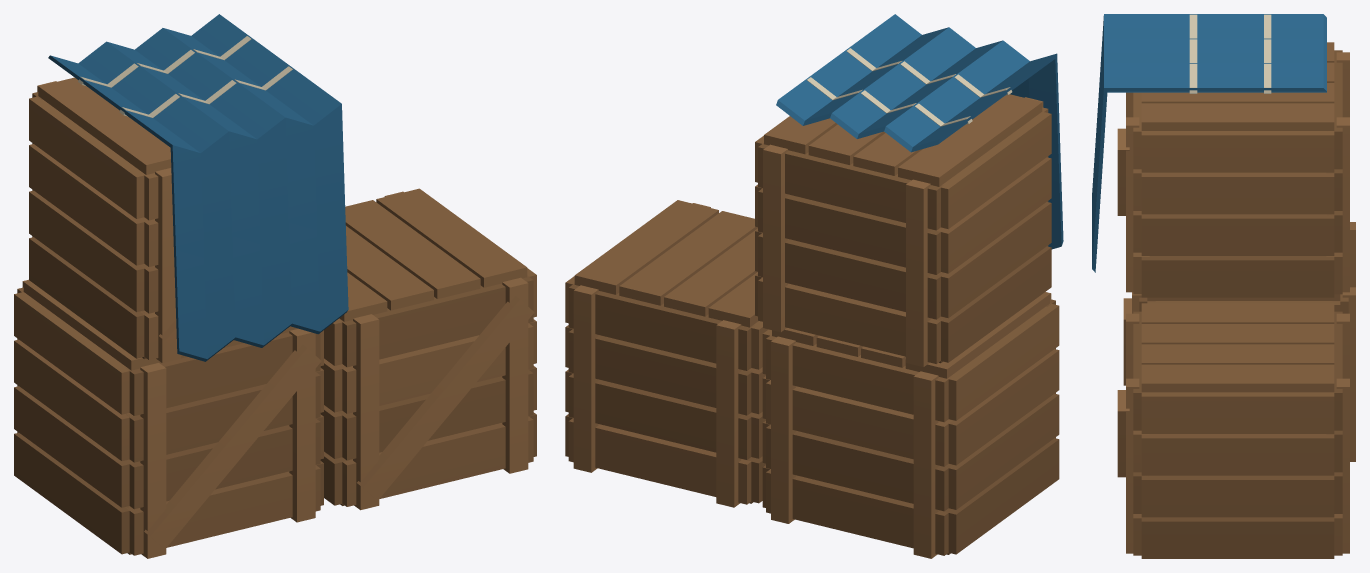
File: town_crates.glb
The picture shows the model from 3 angles, left to right: view 1: azimuth 30°, elevation 25°; view 2: azimuth 150°, elevation 25°; view 3: azimuth 270°, elevation 25°; orthographic projection. The views are drawn at different scales.
Visible parts, largest first — view 1: town_crates; view 2: town_crates; view 3: town_crates.
Boxes of the visible parts, x1,y1,x2,y2 form: town_crates: [14, 14, 536, 558]; town_crates: [565, 14, 1063, 558]; town_crates: [1092, 14, 1355, 558].
Bounding box in the file's own units: 1.43 × 1.41 × 0.8892.
